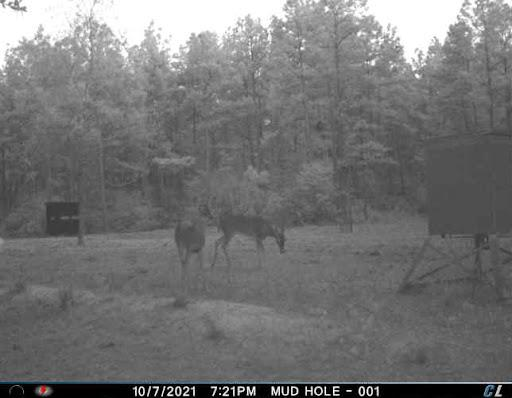Deer: (167, 194, 219, 300), (212, 205, 292, 272)
